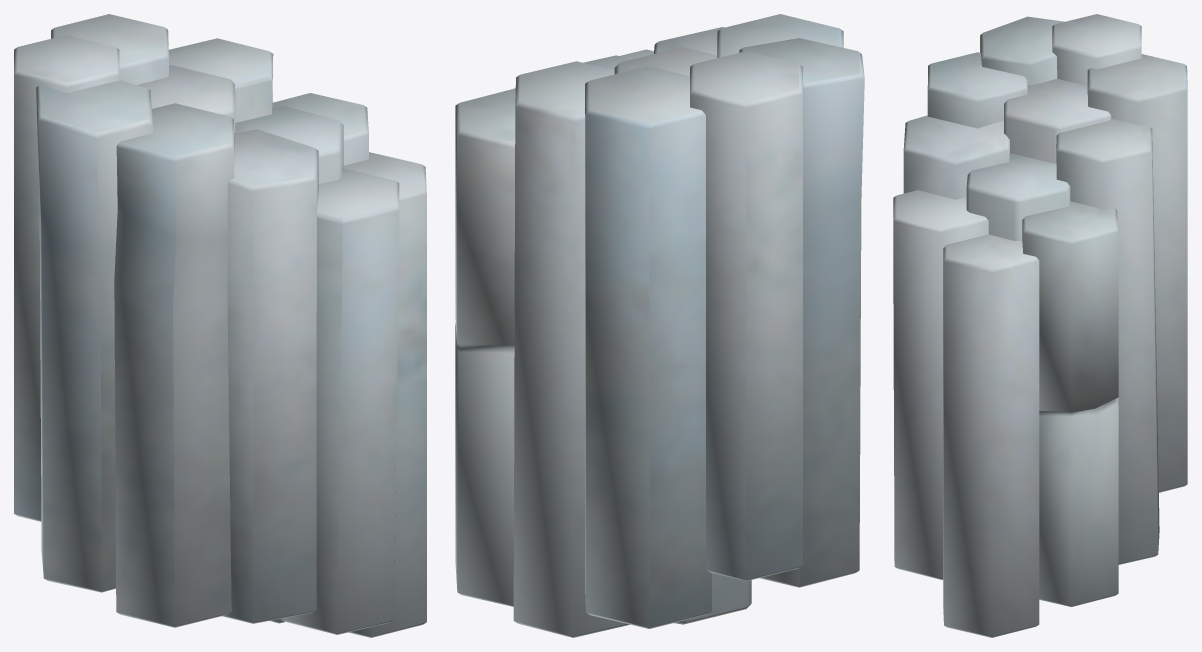
Rendered from P_RockHexic_Rocks09.obj.
3 renders of one model, left to right at view 1: azimuth 30°, elevation 25°; view 2: azimuth 150°, elevation 25°; view 3: azimuth 270°, elevation 25°, orthographic. The views are drawn at different scales.
Bounding box in the file's own units: 13.01 × 19.23 × 10.65.
